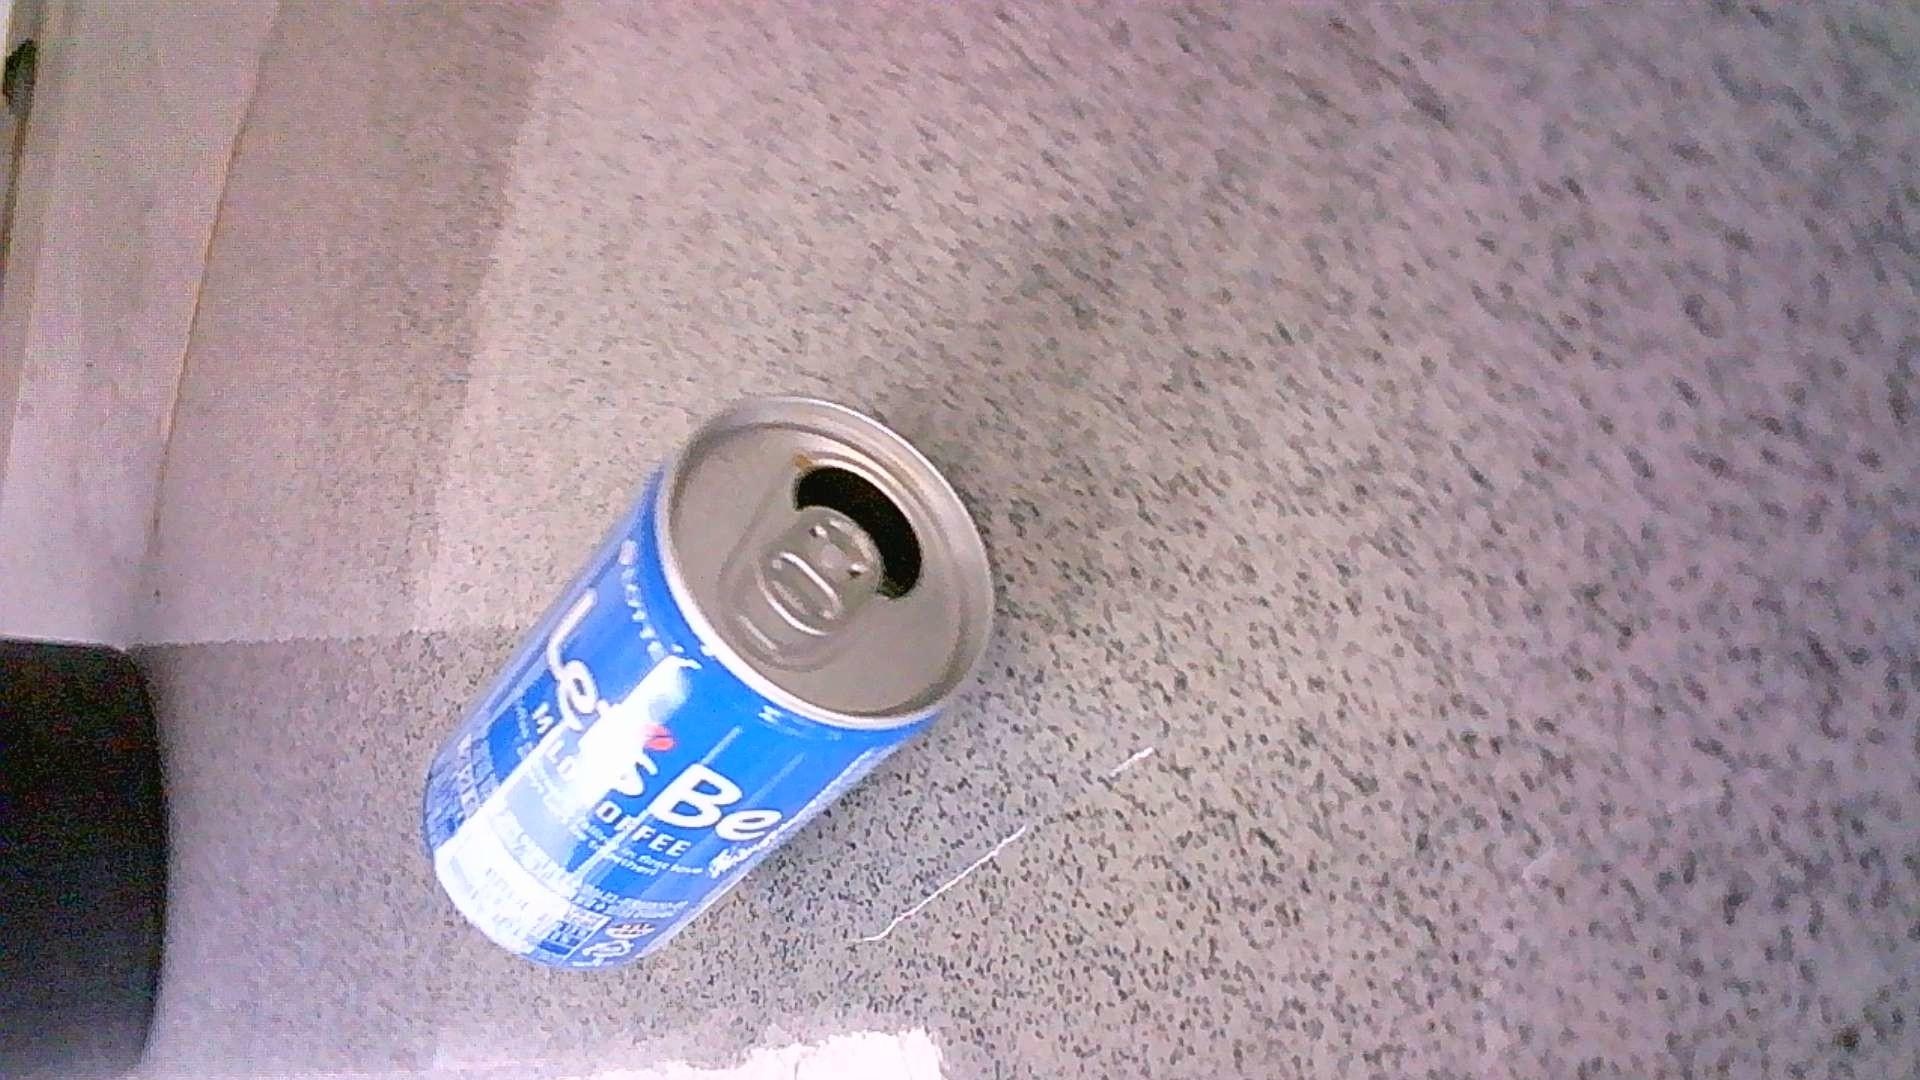letsbe: (423, 389, 994, 973)
